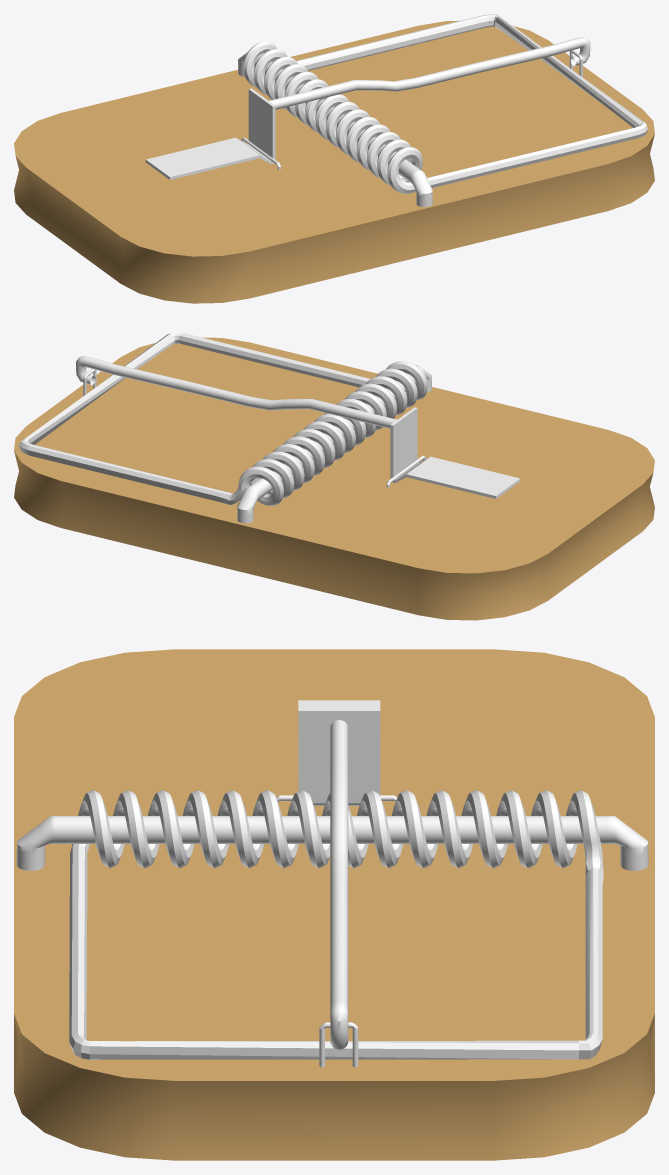
File: MouseTrap.fbx
3 views of the same model, one above another, from view 1: azimuth 30°, elevation 25°; view 2: azimuth 150°, elevation 25°; view 3: azimuth 270°, elevation 25° (orthographic). The views are drawn at different scales.
Visible parts, largest first — view 1: MouseTrap; view 2: MouseTrap; view 3: MouseTrap.
Part boxes in pixels (left/top/right/bottom): MouseTrap: left=14, top=14, right=654, bottom=303; MouseTrap: left=14, top=332, right=654, bottom=620; MouseTrap: left=14, top=649, right=654, bottom=1160.
Size of the model in its own units: 4.64 by 0.886 by 2.91.
